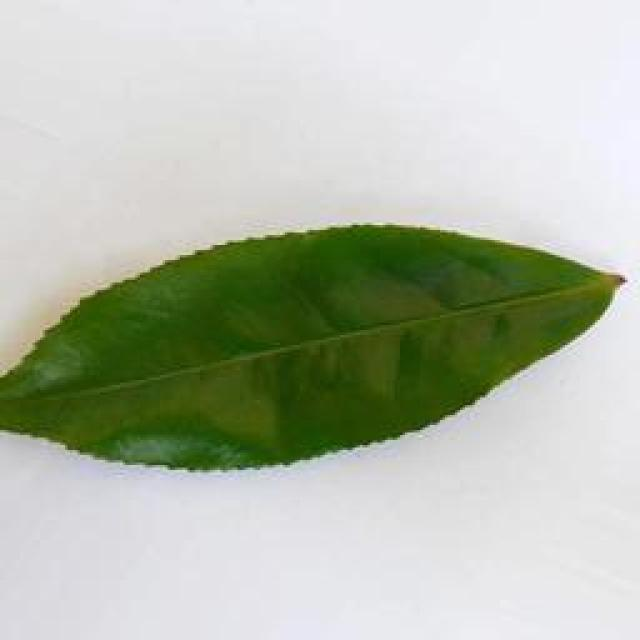Healthy: (4, 220, 632, 477)
